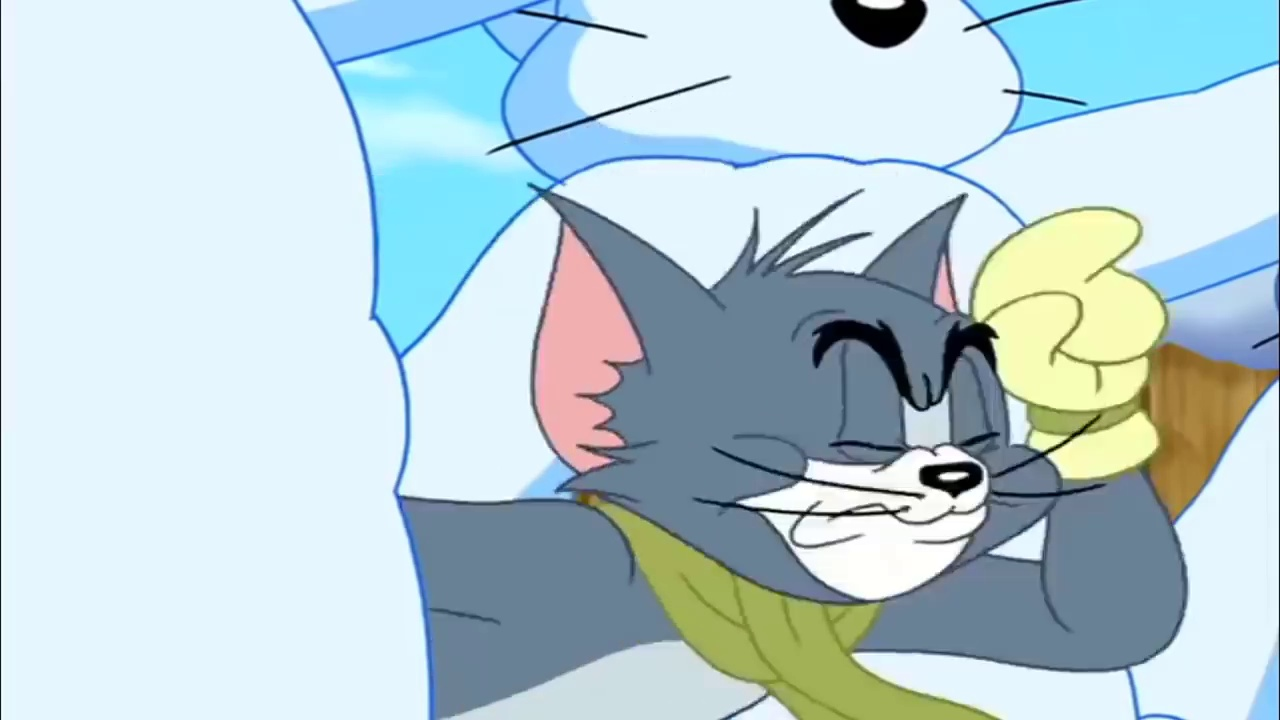face: (749, 311, 1005, 597)
